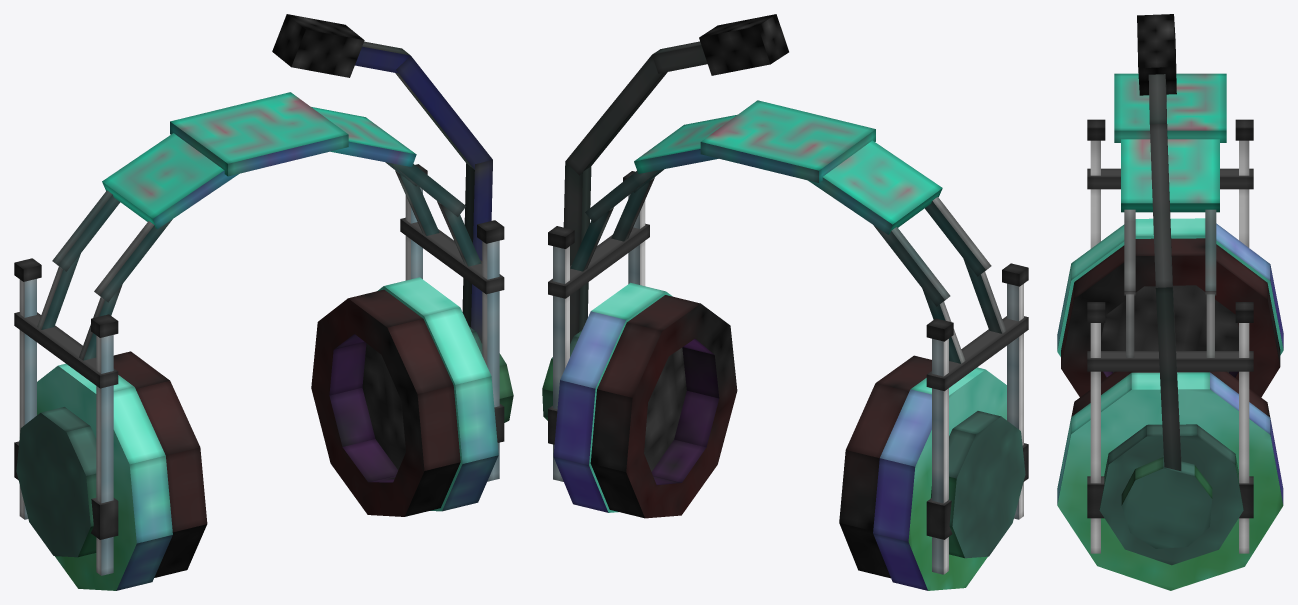
File: Headphones.glb
3 renders of one model, left to right at view 1: azimuth 30°, elevation 25°; view 2: azimuth 150°, elevation 25°; view 3: azimuth 270°, elevation 25°, orthographic. The views are drawn at different scales.
Parts seen in each view (by area): view 1: unnamed (×27); view 2: unnamed (×26); view 3: unnamed (×27).
Boxes of the visible parts, x1,y1,x2,y2 form: unnamed (×27): (14,14,513,590); unnamed (×26): (548,14,1028,590); unnamed (×27): (1057,14,1283,590).
Size of the model in its own units: 2.25 by 2.59 by 1.05.
Materials: 1 (1 with a texture image).
